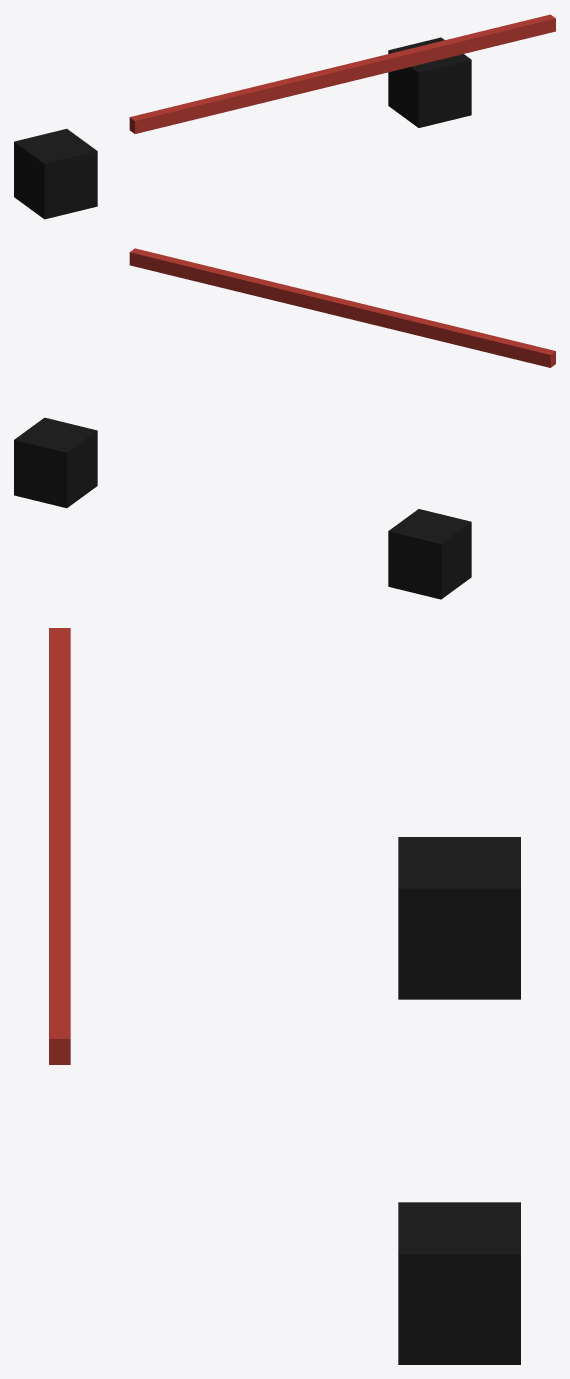
The model's file is cover.mobile_barricade.glb.
3 renders of one model, top to bottom at view 1: azimuth 30°, elevation 25°; view 2: azimuth 150°, elevation 25°; view 3: azimuth 270°, elevation 25°, orthographic. The views are drawn at different scales.
Visible parts, largest first — view 1: red_panel, caster_l, caster_r; view 2: red_panel, caster_l, caster_r; view 3: caster_l, caster_r, red_panel.
Boxes of the visible parts, box(x1,y1,x2,y2) form: red_panel: box(129, 14, 555, 133); caster_l: box(14, 129, 97, 219); caster_r: box(388, 37, 471, 127); red_panel: box(129, 248, 555, 367); caster_l: box(388, 509, 471, 599); caster_r: box(14, 417, 97, 508); caster_l: box(398, 837, 520, 999); caster_r: box(398, 1202, 520, 1364); red_panel: box(49, 628, 70, 1064).
Size of what is drawn, in the model's own units: 2.74 by 0.99 by 1.31.
